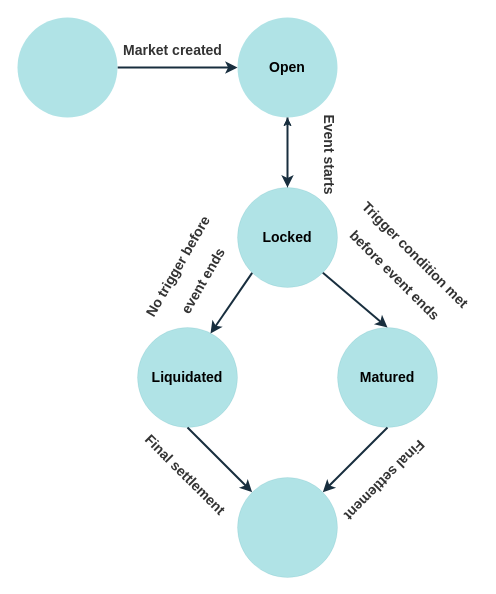
Image size: 496x594. Some labels were removed from this diagram. Each missing label, with the centre of its shape:
Not Set: the point at 67,67
Settled: the point at 287,527
